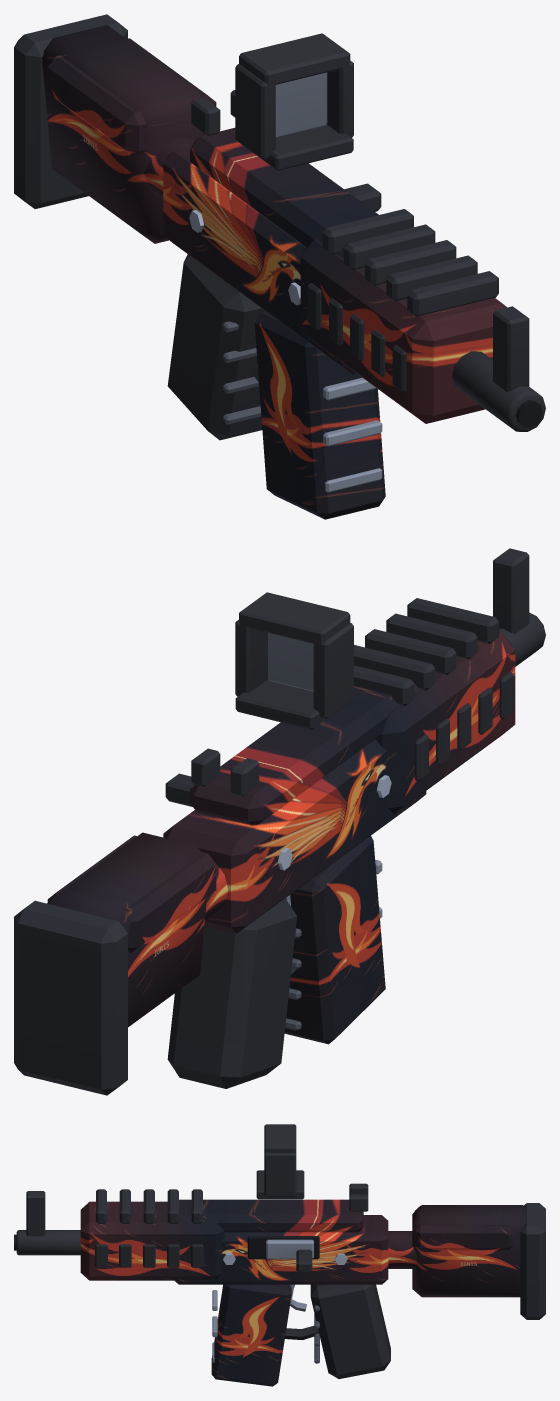
Rendered from M4_Firecrest.glb.
3 renders of one model, top to bottom at view 1: azimuth 30°, elevation 25°; view 2: azimuth 150°, elevation 25°; view 3: azimuth 270°, elevation 25°, orthographic. The views are drawn at different scales.
Visible parts, largest first — view 1: Main, Stock, Magazine, Sight; view 2: Main, Stock, Magazine, Sight, Bolt; view 3: Main, Stock, Magazine, Sight, Bolt.
Part boxes in pixels (<box>): Main: <box>163,90,545,440</box>; Stock: <box>14,14,216,243</box>; Magazine: <box>254,311,385,519</box>; Sight: <box>235,33,353,170</box>; Main: <box>163,548,545,1088</box>; Stock: <box>14,832,228,1095</box>; Magazine: <box>284,836,385,1044</box>; Sight: <box>235,592,353,729</box>; Bolt: <box>165,773,194,806</box>; Main: <box>14,1183,390,1378</box>; Stock: <box>388,1203,545,1319</box>; Magazine: <box>211,1284,291,1386</box>; Sight: <box>256,1124,304,1199</box>; Bolt: <box>266,1239,313,1272</box>.
Bounding box in the file's own units: 0.65 × 1.68 × 3.33.
Materials: 2 (1 with a texture image).
